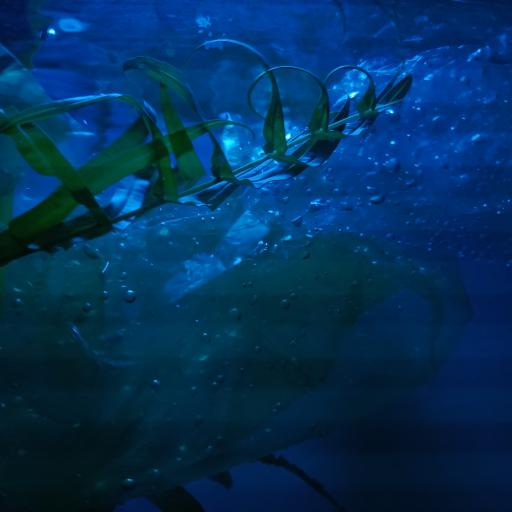plastic_bag: (1, 42, 512, 502)
